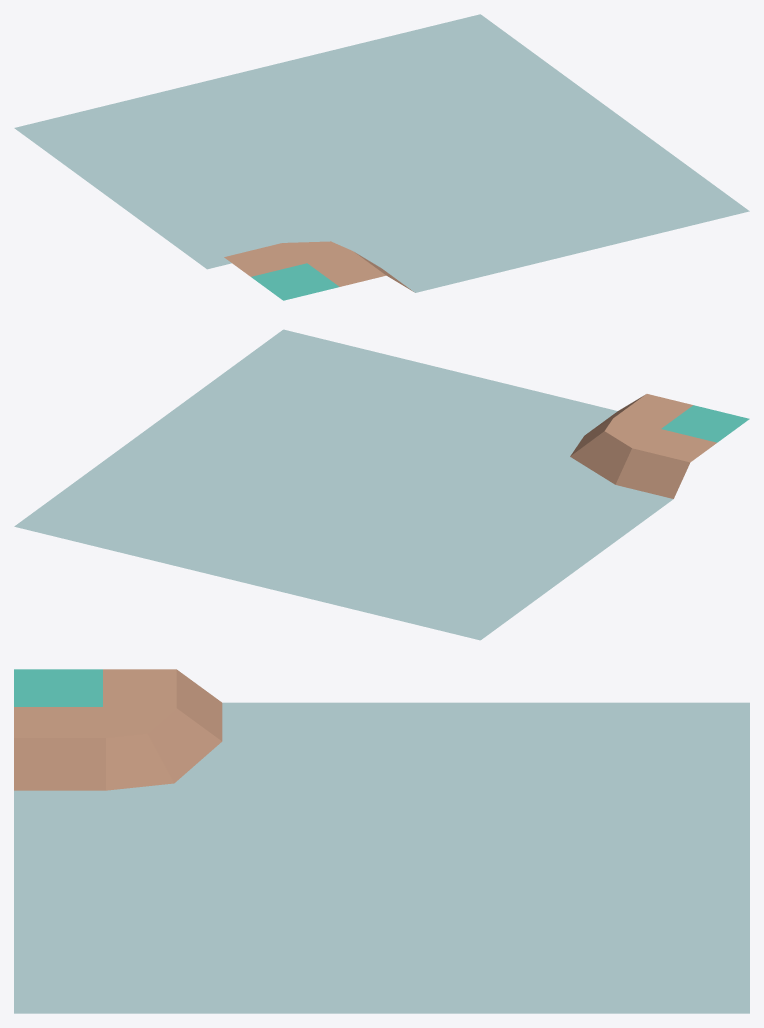
Rendered from ground_riverCornerSmall.glb.
3 renders of one model, top to bottom at view 1: azimuth 30°, elevation 25°; view 2: azimuth 150°, elevation 25°; view 3: azimuth 270°, elevation 25°, orthographic. The views are drawn at different scales.
Visible parts, largest first — view 1: ground_riverCornerSmall; view 2: ground_riverCornerSmall; view 3: ground_riverCornerSmall.
Part boxes in pixels (x1,y1,x2,y2): ground_riverCornerSmall: [14, 14, 749, 300]; ground_riverCornerSmall: [14, 329, 749, 640]; ground_riverCornerSmall: [14, 669, 749, 1013].
Bounding box in the file's own units: 1 × 0.05 × 1.
